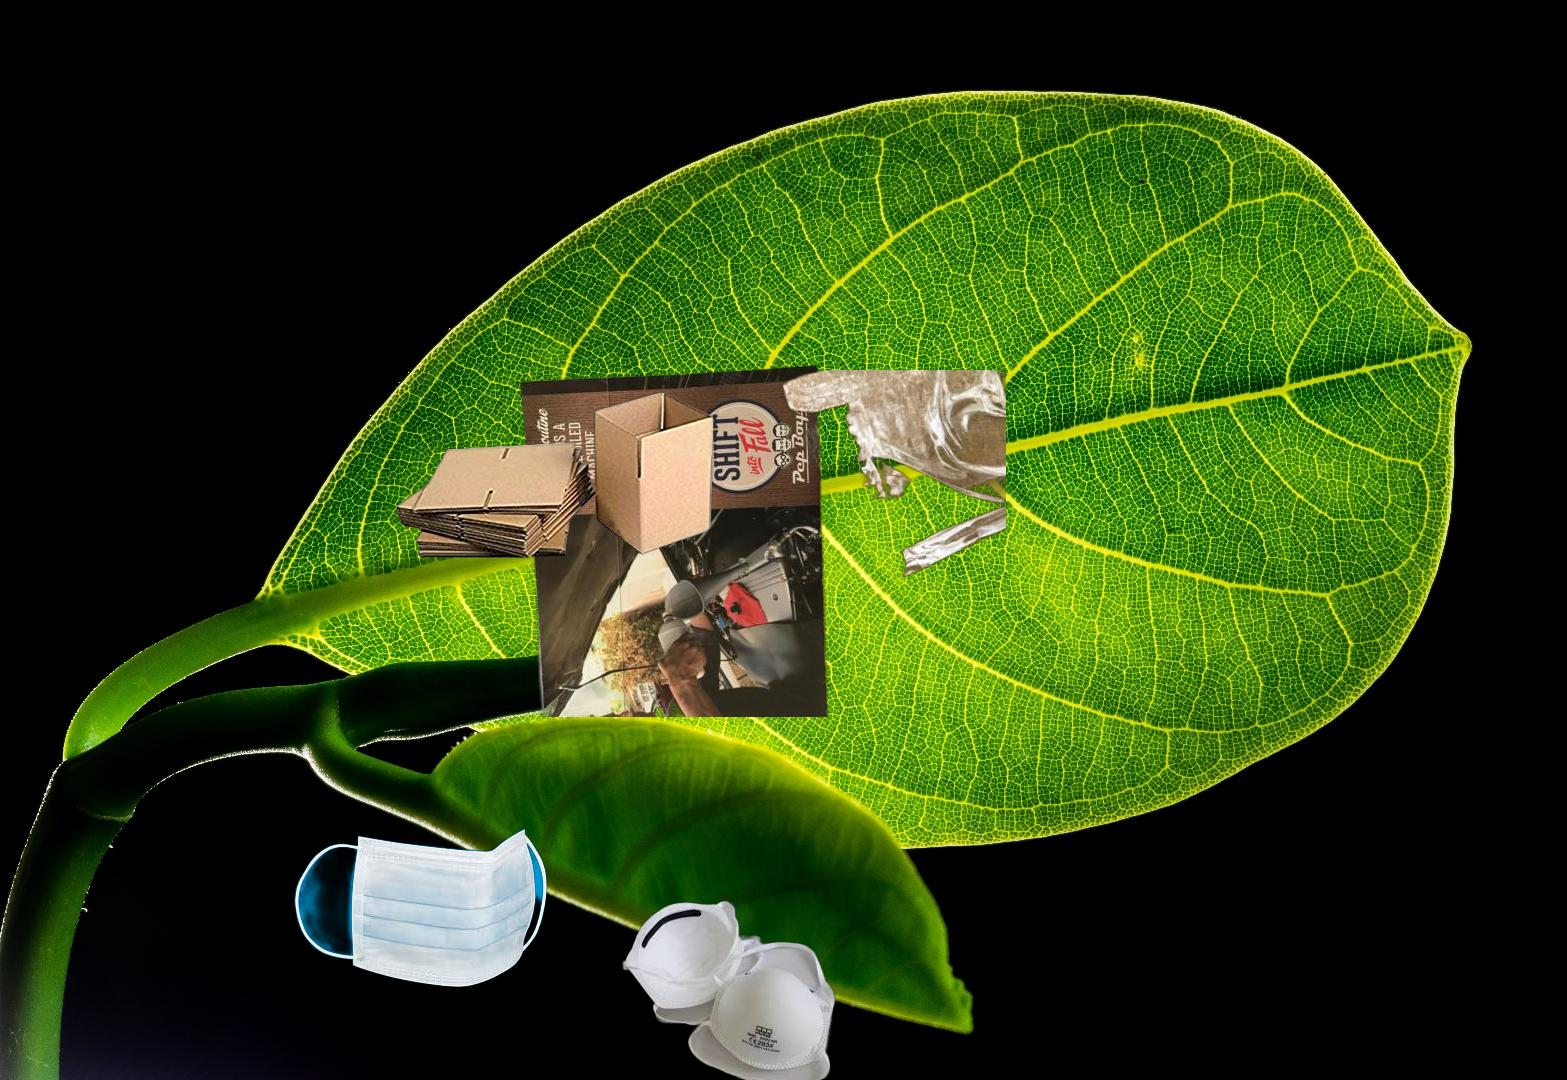paper: (516, 363, 832, 717)
trash: (291, 823, 550, 990), (618, 888, 838, 1080)
trashbox-cardboard: (494, 370, 1006, 754), (395, 391, 714, 558)
